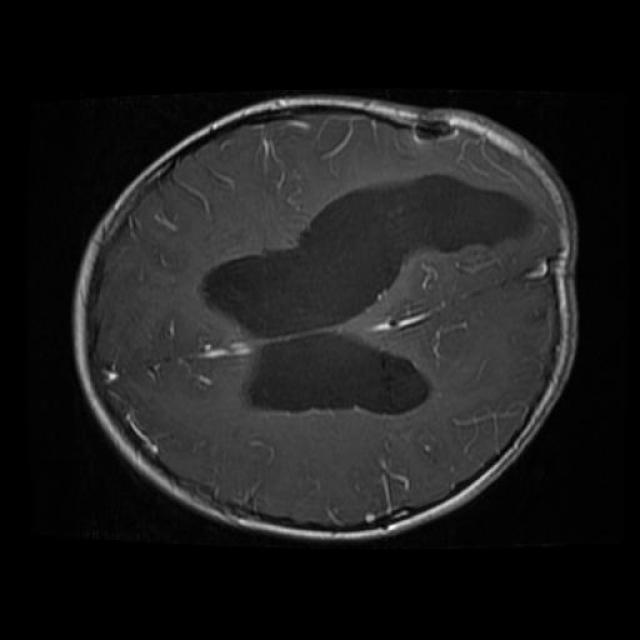Glioma: (301, 174, 531, 296)
